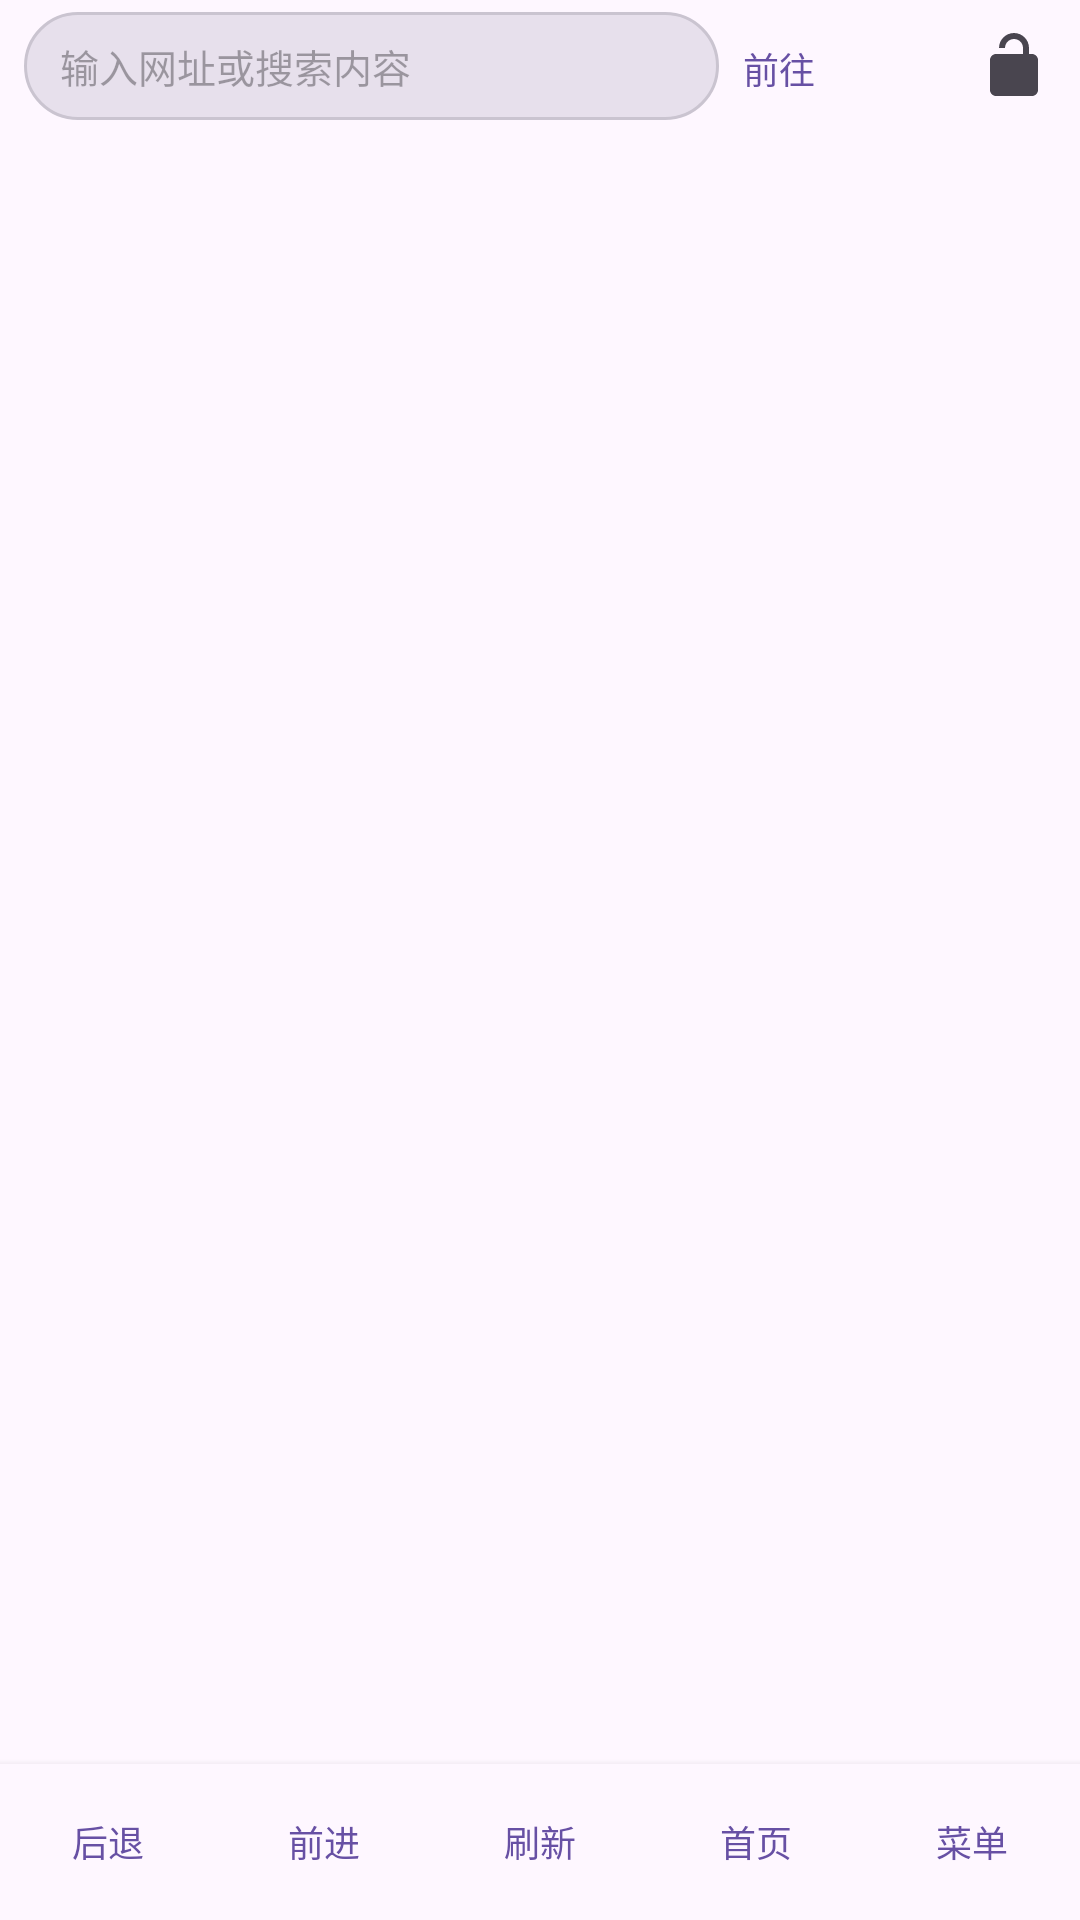

Where to tap for icons on this 1080 x 1920 app screen, as point (x, y):
固定网页: point (1014, 64)
